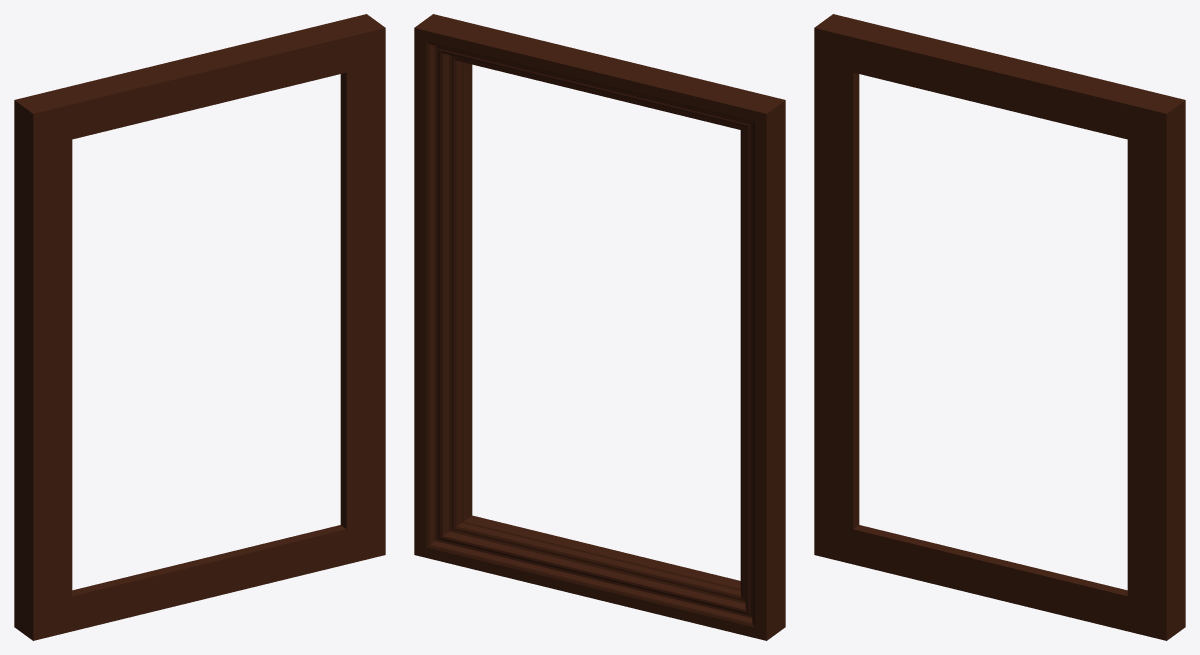
Rendered from PictureFrame.fbx.
3 views of the same model, side by side, from view 1: azimuth 30°, elevation 25°; view 2: azimuth 150°, elevation 25°; view 3: azimuth 330°, elevation 25° (orthographic).
Parts seen in each view (by area): view 1: Picture frame; view 2: Picture frame; view 3: Picture frame.
Boxes of the visible parts, left/top/right/bottom form: Picture frame: left=14, top=14, right=385, bottom=640; Picture frame: left=414, top=14, right=785, bottom=640; Picture frame: left=814, top=14, right=1185, bottom=640.
Bounding box in the file's own units: 35 × 50 × 3.27.
